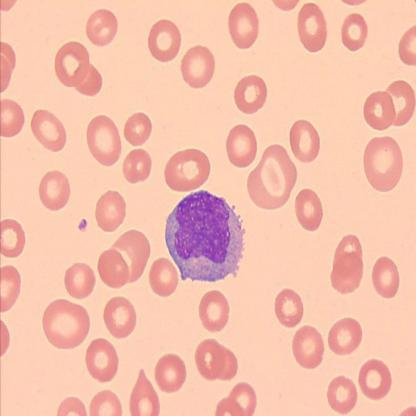Monocyte: (164, 186, 247, 285)
